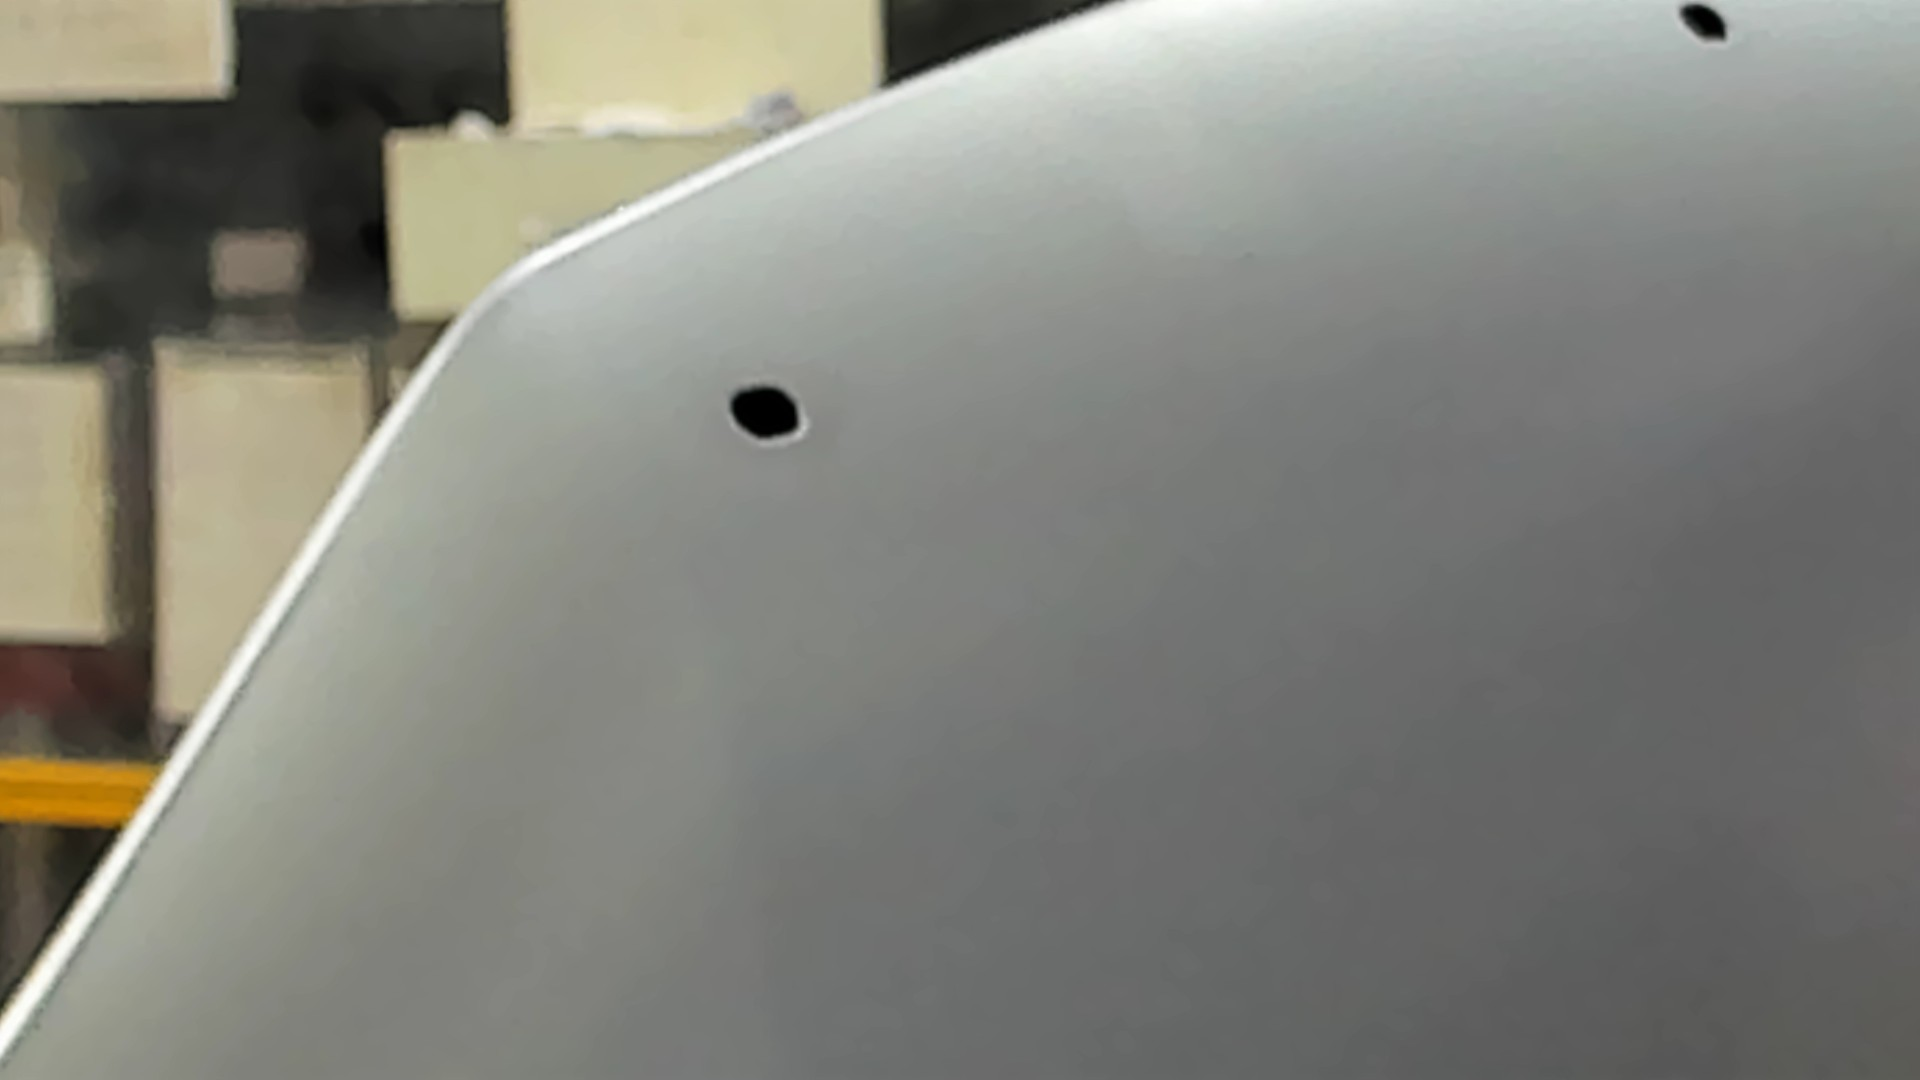amorfo: (720, 377, 808, 447), (1659, 1, 1738, 55)
